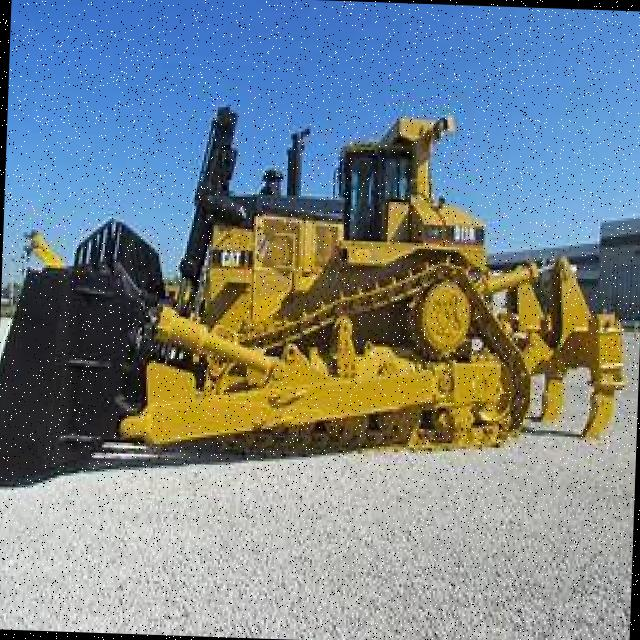Bulldozer: (0, 48, 640, 514)
